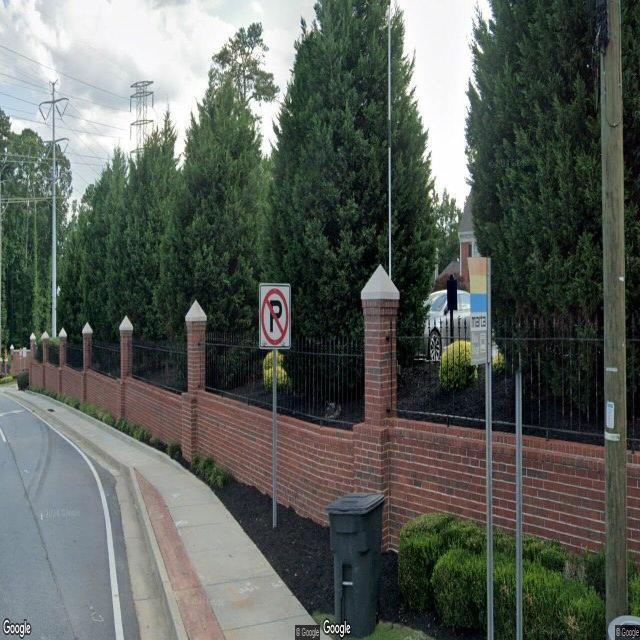trash_can: (606, 608, 640, 640)
